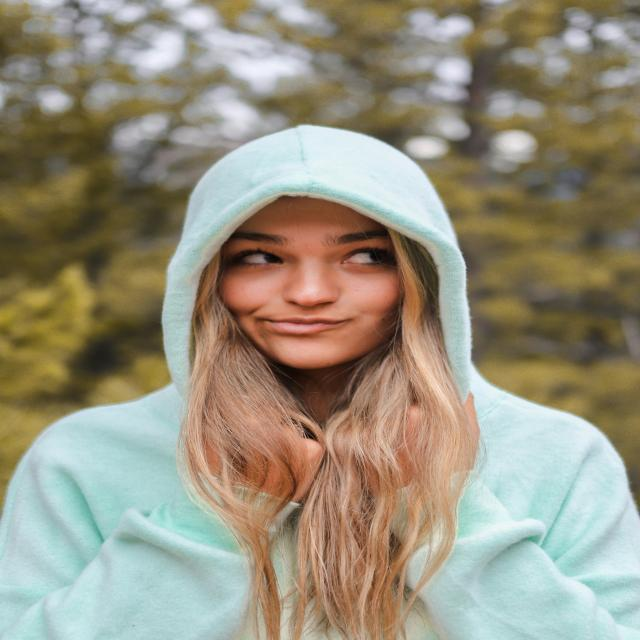4_capucha: (160, 124, 475, 415)
